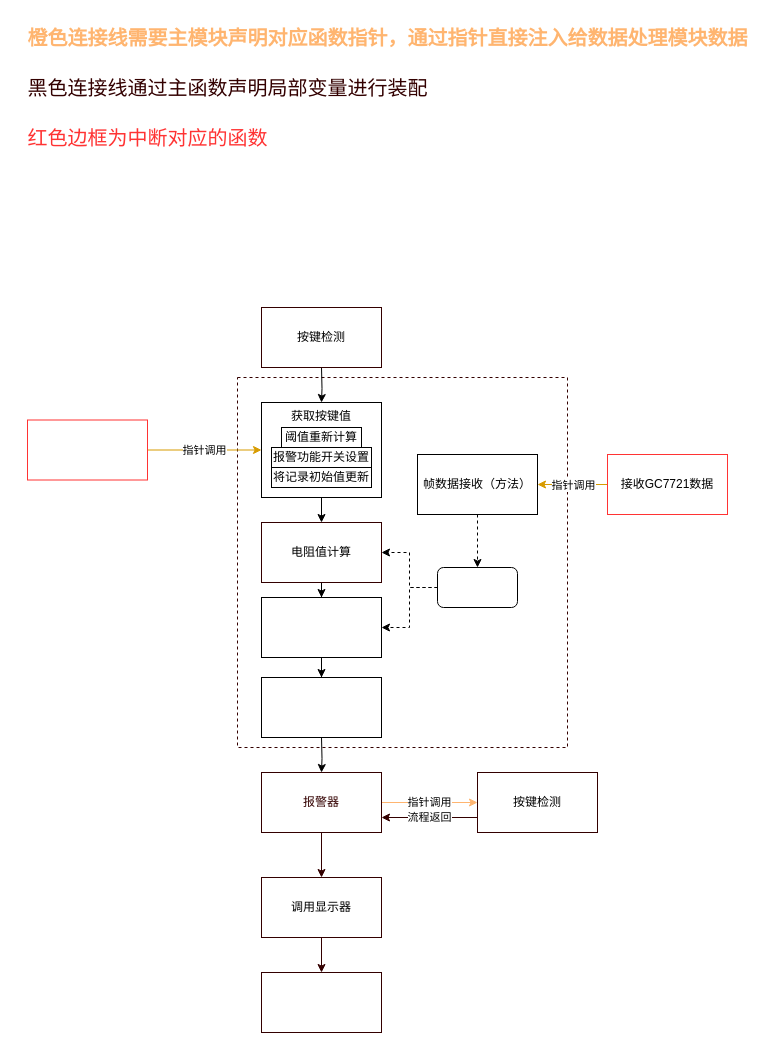
This 774x1050 diagram has some shape labels left out. The shapes that lost their labels are listed below. From the top down, each one's box as (x1, y1, x2, y2) in pixels, then its label:
(26, 419, 148, 480): 云端指令
(436, 566, 518, 608): 帧数据（变量）
(260, 596, 382, 658): 生成显示数组（ 当前阻值显示\init阻值显示）
(260, 676, 382, 738): 计算是否需要报警
(260, 972, 382, 1032): 数据及状态发送至云端
